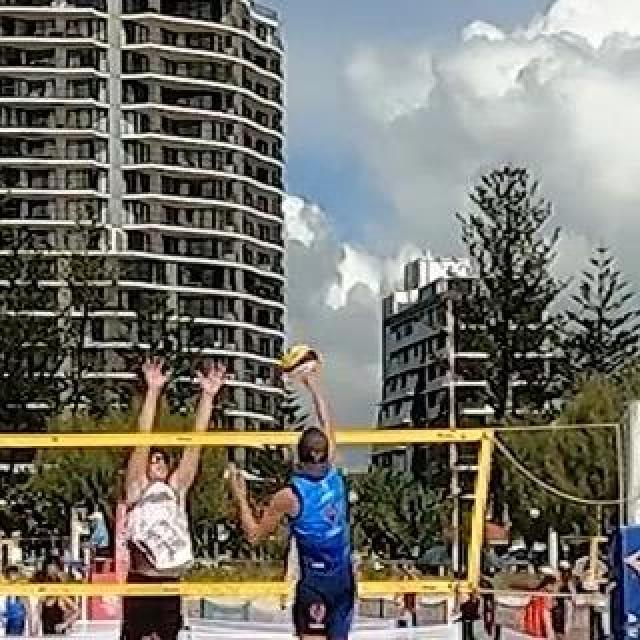volleyball: (289, 345, 319, 375)
